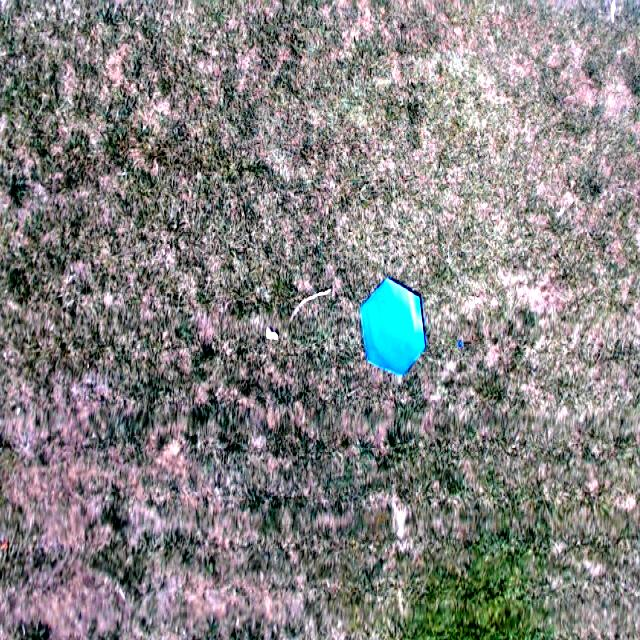blue_hexagon: (361, 279, 426, 374)
